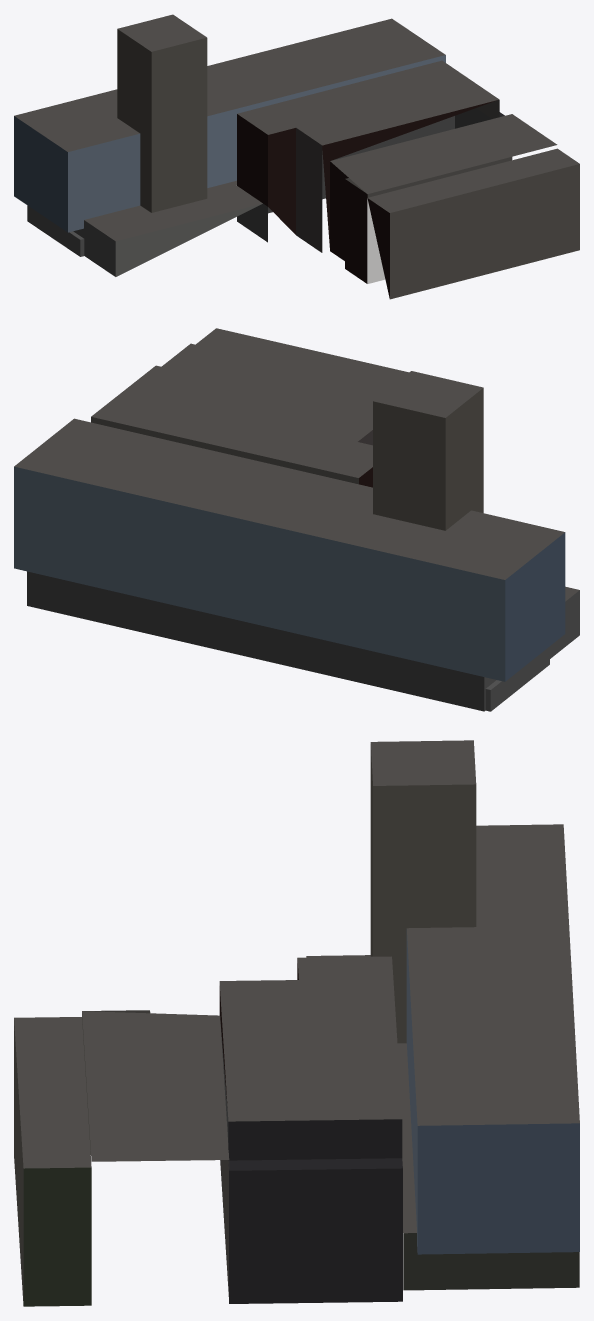
The model's file is capitol-mark-bank-trust-fsg-bank.glb.
3 renders of one model, top to bottom at view 1: azimuth 30°, elevation 25°; view 2: azimuth 150°, elevation 25°; view 3: azimuth 270°, elevation 25°, orthographic. The views are drawn at different scales.
Visible parts, largest first — view 1: LOD0; view 2: LOD0; view 3: LOD0.
Boxes of the visible parts, x1,y1,x2,y2 form: LOD0: [14, 14, 579, 299]; LOD0: [14, 328, 579, 711]; LOD0: [14, 740, 579, 1306].
Size of what is drawn, in the model's own units: 78.94 by 37.4 by 60.91.
Materials: 2 (2 with a texture image).
